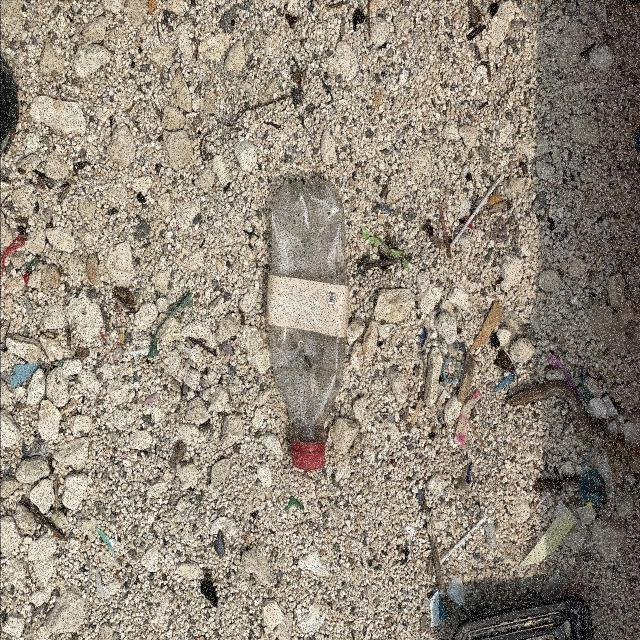plastic_waste: (261, 175, 351, 477)
